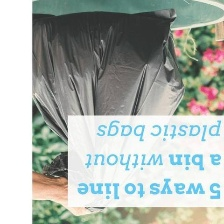plastic_bag: (4, 5, 187, 217)
